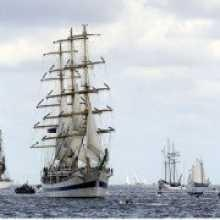fanchuan: (35, 25, 133, 201), (153, 140, 212, 197)
